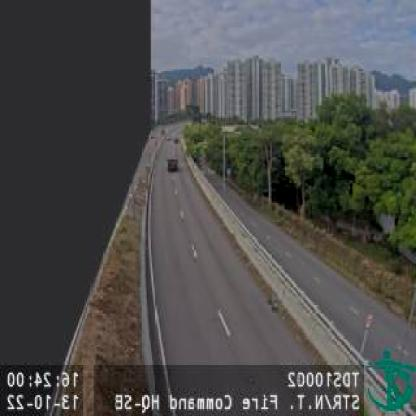Car: (166, 156, 178, 172)
